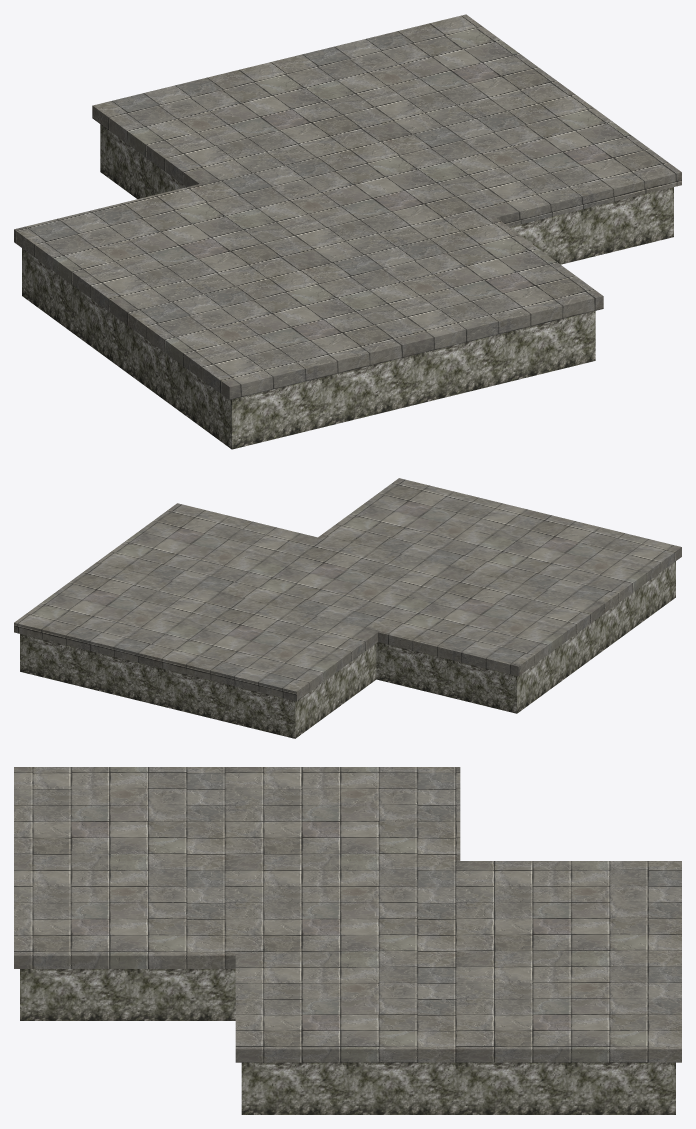
The model's file is pavilion_LOD1.FBX.
3 views of the same model, one above another, from view 1: azimuth 30°, elevation 25°; view 2: azimuth 150°, elevation 25°; view 3: azimuth 270°, elevation 25° (orthographic). The views are drawn at different scales.
Visible parts, largest first — view 1: pavilion_floor01, pavilion_base01; view 2: pavilion_floor01, pavilion_base01; view 3: pavilion_floor01, pavilion_base01.
Boxes of the visible parts, bbox=[...] form: pavilion_floor01: bbox=[14, 14, 681, 399]; pavilion_base01: bbox=[22, 124, 673, 449]; pavilion_floor01: bbox=[14, 478, 681, 701]; pavilion_base01: bbox=[20, 561, 675, 738]; pavilion_floor01: bbox=[14, 767, 681, 1062]; pavilion_base01: bbox=[20, 969, 675, 1114].
Size of what is drawn, in the model's own units: 665 by 74.57 by 665.
